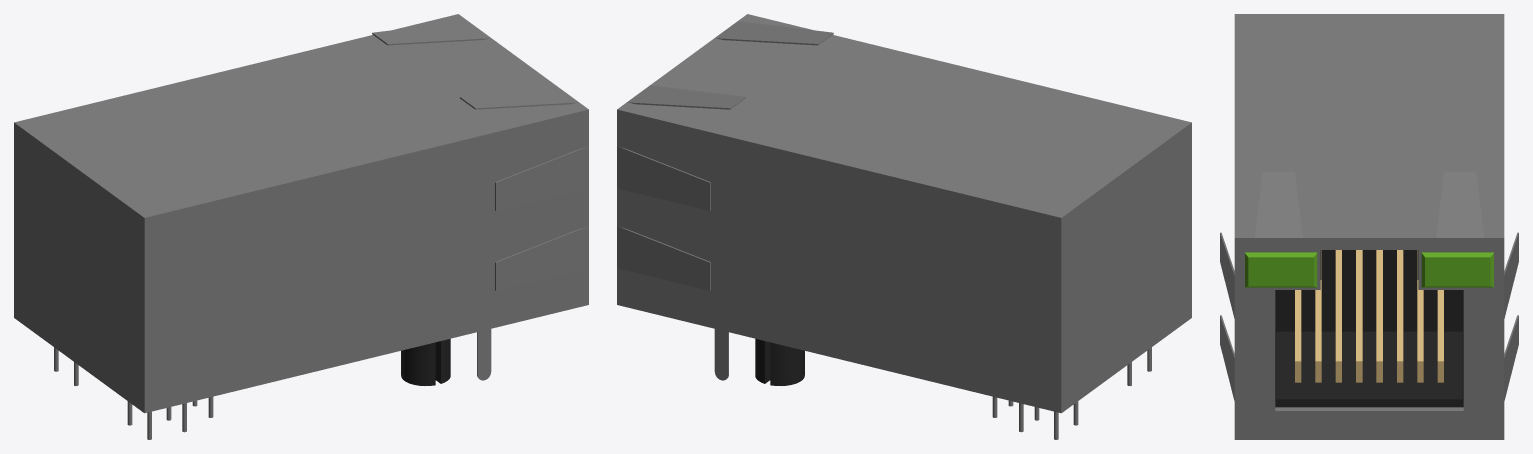
Rendered from kc-rj45_pulse_jk0654219nl_horizontal.glb.
3 renders of one model, left to right at view 1: azimuth 30°, elevation 25°; view 2: azimuth 150°, elevation 25°; view 3: azimuth 270°, elevation 25°, orthographic. The views are drawn at different scales.
Parts seen in each view (by area): view 1: 0.25_0.25_0.25_0, 0_0_0_0; view 2: 0.25_0.25_0.25_0, 0_0_0_0; view 3: 0.25_0.25_0.25_0, 0_0_0_0, 0.75_0.5_0.25_0.9, 0.16666666666666666_0.4166666666666667_0_0.
Part boxes in pixels (x1,y1,x2,y2): 0.25_0.25_0.25_0: (14, 14, 588, 439); 0_0_0_0: (401, 338, 450, 385); 0.25_0.25_0.25_0: (617, 14, 1191, 439); 0_0_0_0: (755, 338, 804, 385); 0.25_0.25_0.25_0: (1220, 14, 1518, 439); 0_0_0_0: (1275, 250, 1463, 407); 0.75_0.5_0.25_0.9: (1295, 250, 1443, 382); 0.16666666666666666_0.4166666666666667_0_0: (1245, 252, 1493, 287).
Bounding box in the file's own units: 3.33 × 1.85 × 1.86.
